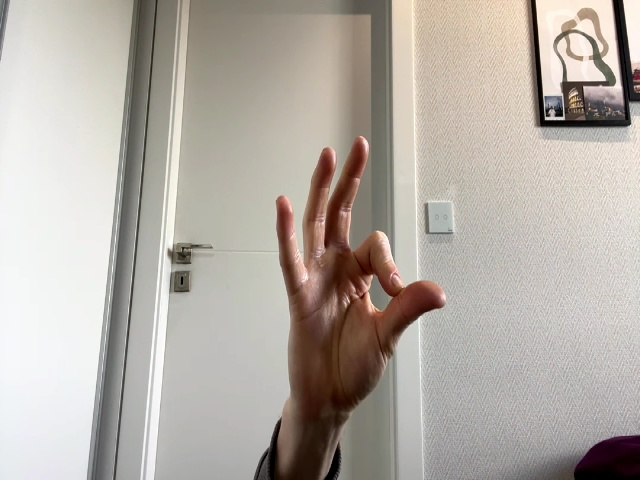S: (276, 136, 446, 411)
